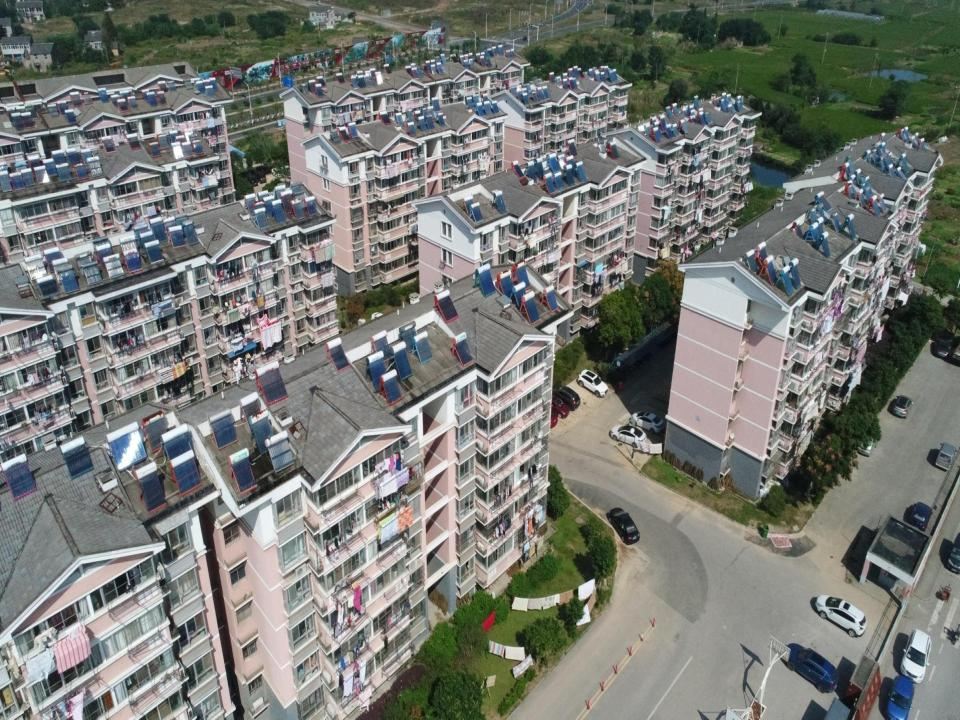car: (784, 642, 839, 692), (815, 593, 866, 638), (901, 627, 932, 683), (885, 675, 914, 719), (608, 507, 640, 545), (610, 423, 646, 450), (629, 410, 665, 435), (577, 369, 608, 398), (934, 442, 957, 472), (910, 502, 932, 532), (554, 385, 580, 409), (548, 393, 570, 419), (946, 531, 959, 574), (891, 394, 912, 419), (540, 405, 558, 429), (935, 333, 952, 358), (857, 433, 873, 457)
